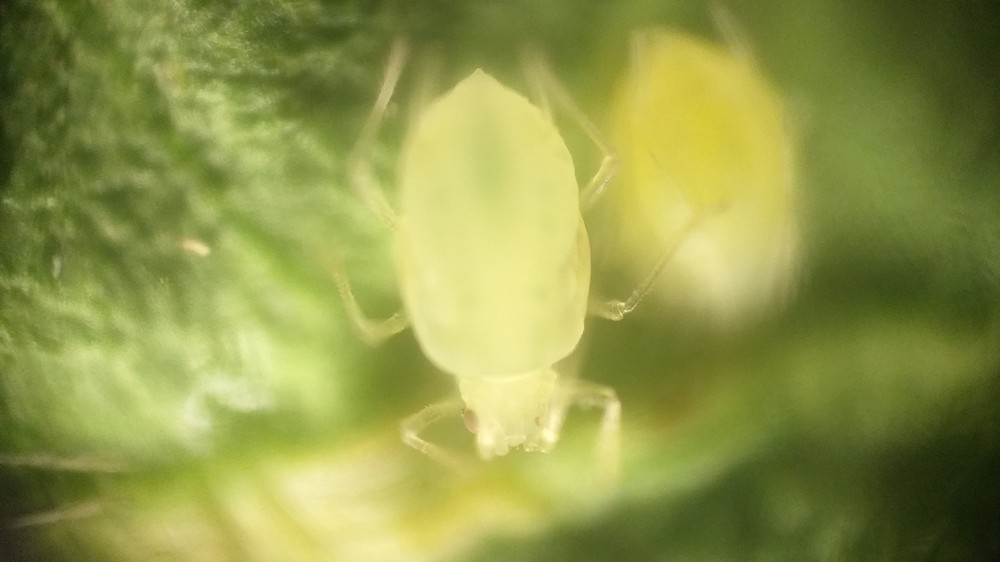Pulgon: (326, 28, 722, 517)
